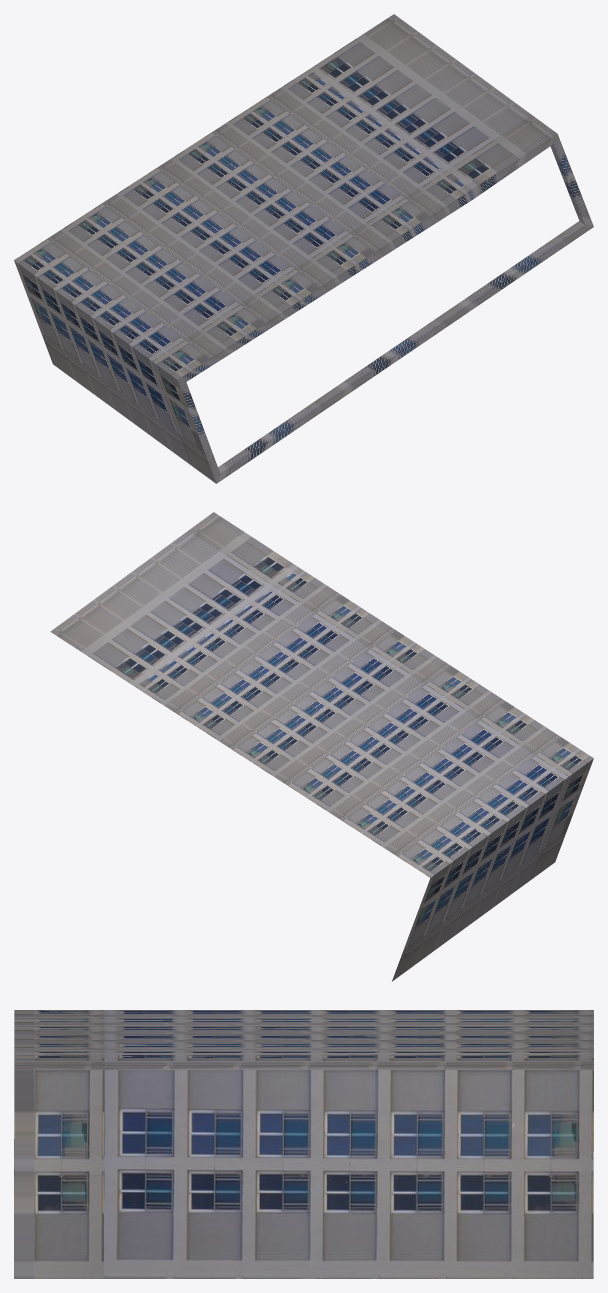
The model's file is tile_facade_720.glb.
The picture shows the model from 3 angles, top to bottom: view 1: azimuth 30°, elevation 25°; view 2: azimuth 150°, elevation 25°; view 3: azimuth 270°, elevation 25°; orthographic projection. The views are drawn at different scales.
Parts seen in each view (by area): view 1: world; view 2: world; view 3: world.
Part boxes in pixels (x1,y1,x2,y2): world: (14, 14, 593, 483); world: (50, 512, 593, 981); world: (14, 1010, 593, 1278).
Size of the model in its own units: 42.64 by 26.12 by 29.02.
Materials: 1 (1 with a texture image).
